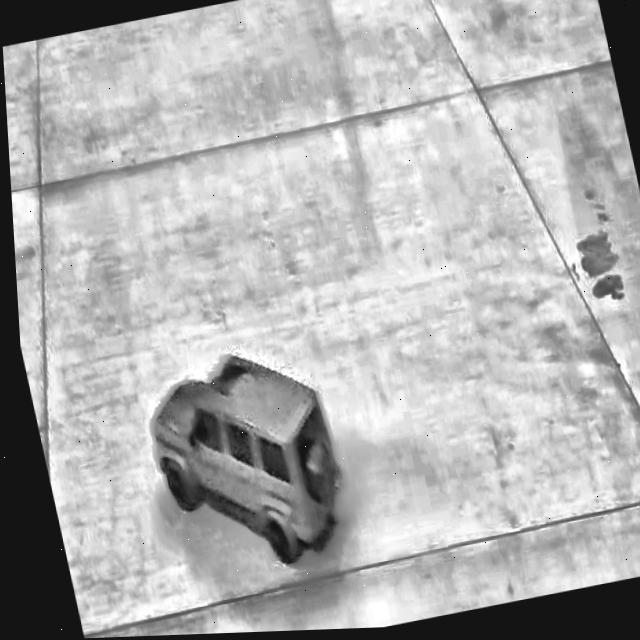light_vehicle: (116, 328, 353, 579)
